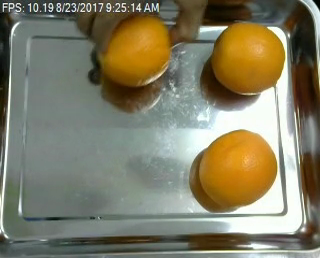Orange: (198, 130, 279, 206), (211, 20, 286, 95)
